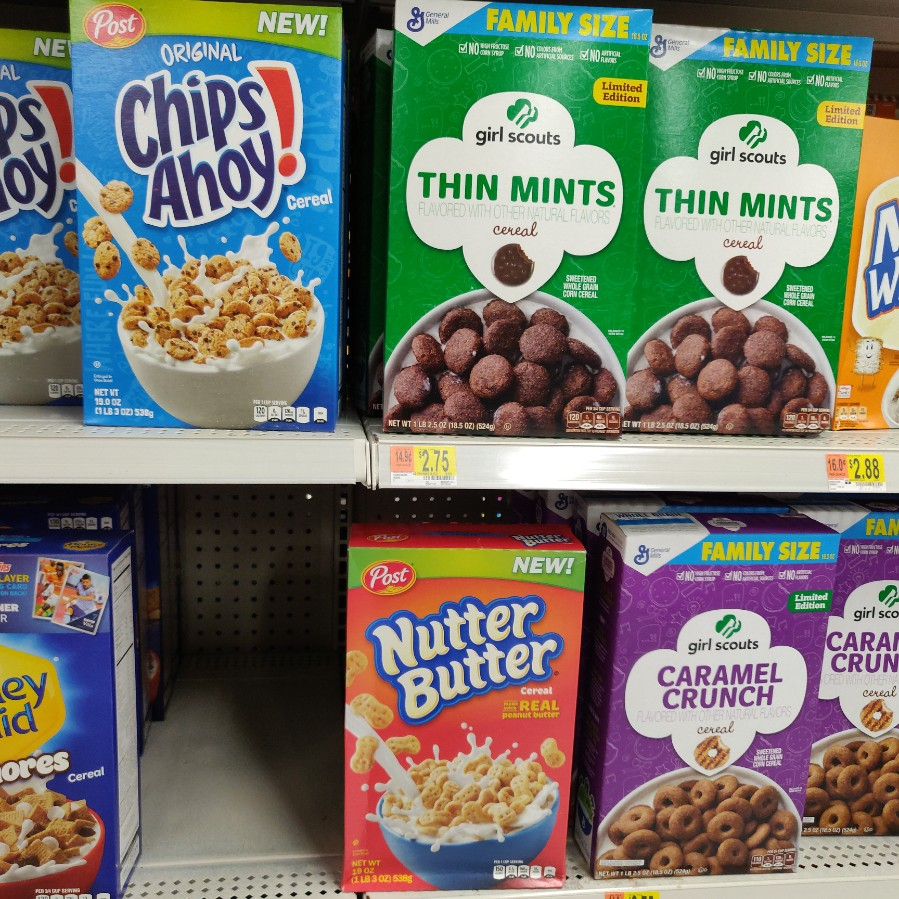Chips Ahoys-565717529: (69, 4, 354, 432)
